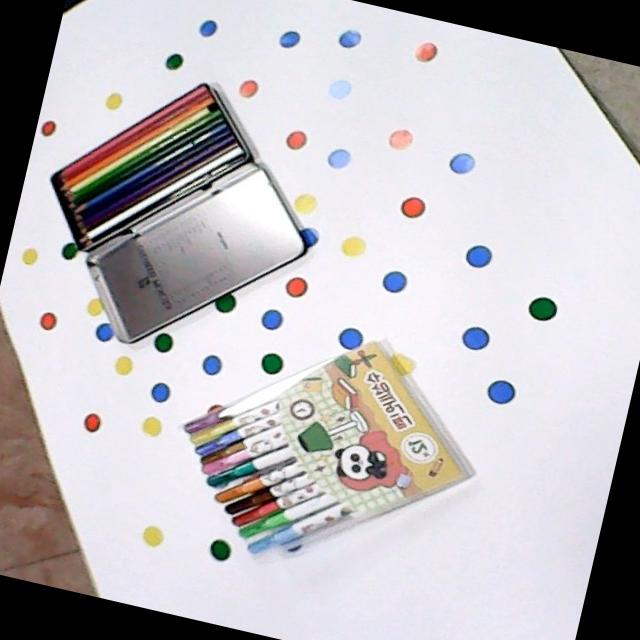color: (40, 69, 260, 257)
signpen: (165, 330, 488, 568)
